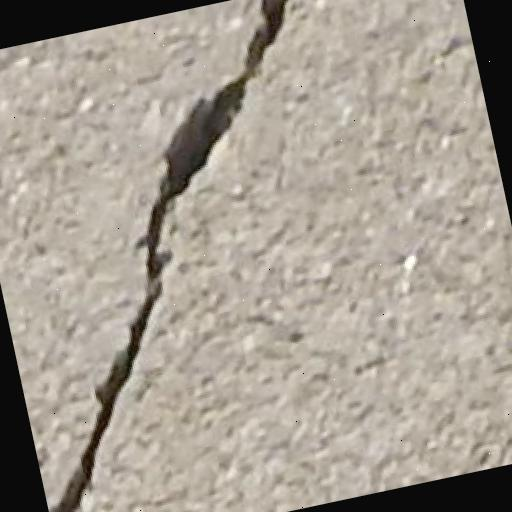spalling: (44, 0, 311, 512)
